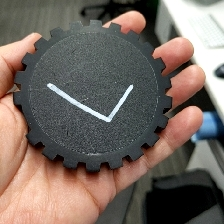gear: (11, 18, 174, 174)
missing: (13, 89, 41, 148)
